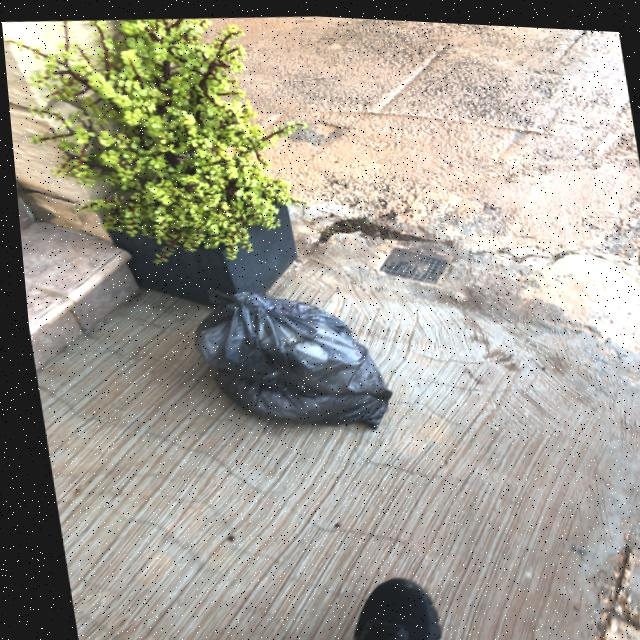Mixed Waste -Black Bag-: (181, 277, 392, 439)
